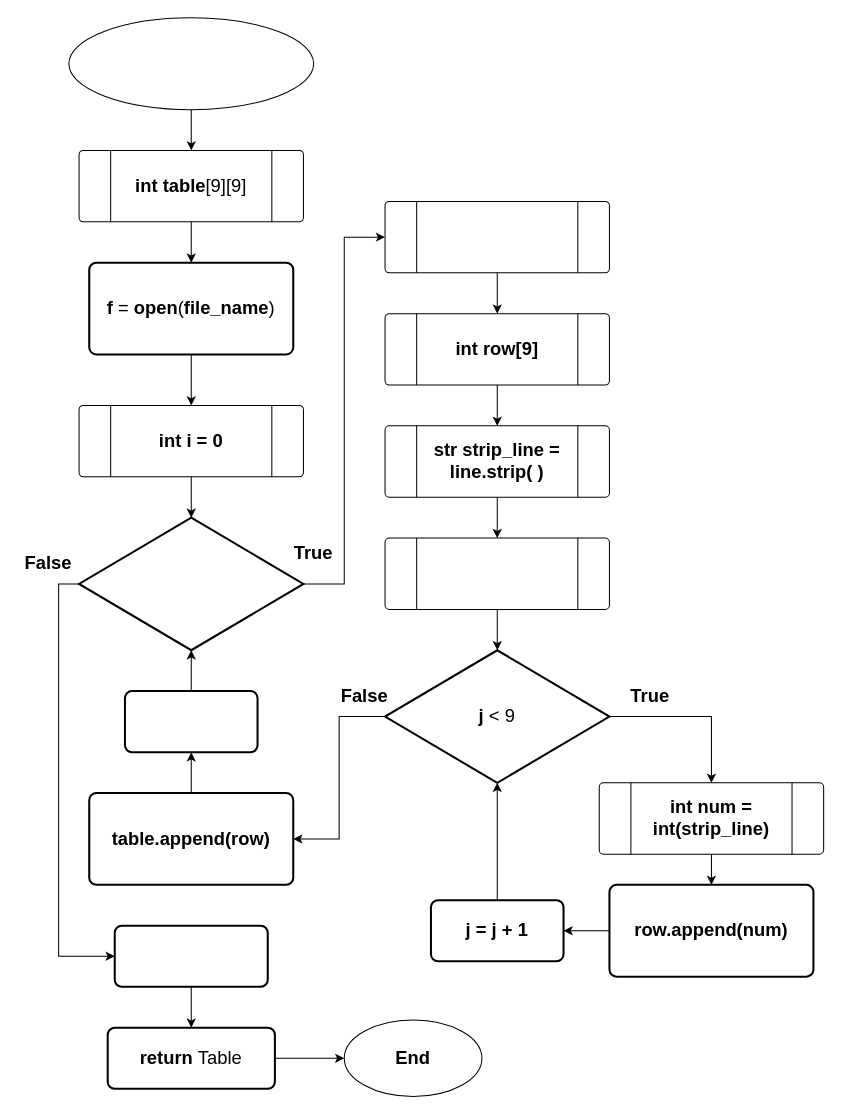
Some shapes in this 842 by 1115 pixel diagram are drawn without their labels. Each missing label, with the box of its shape:
f.close( ): (113, 924, 268, 987)
i < 9: (78, 516, 304, 651)
i = i + 1: (123, 690, 258, 753)
int j = 0: (384, 537, 609, 609)
load_sudoku ( file_name ): (68, 17, 314, 110)
str line = f.readline( ): (384, 200, 609, 273)
